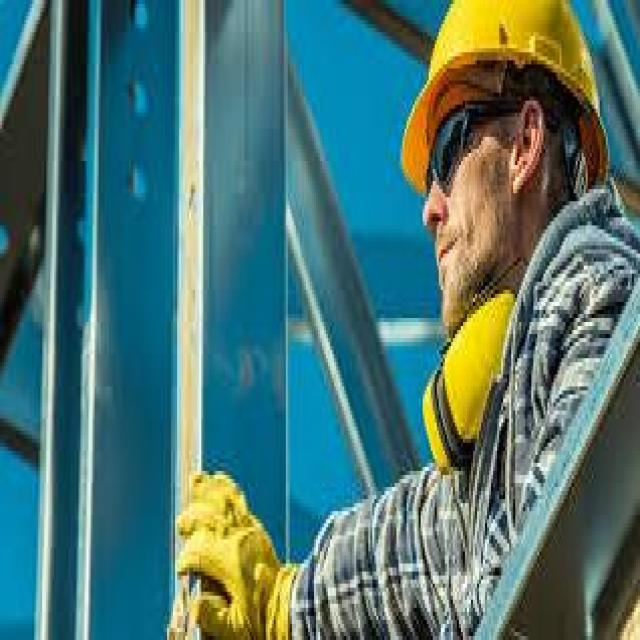Reflective-Jacket: (413, 209, 638, 640)
Safety-Helmet: (398, 0, 619, 209)
